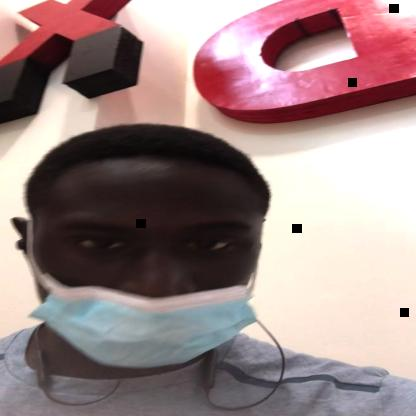mask: (28, 178, 269, 370)
